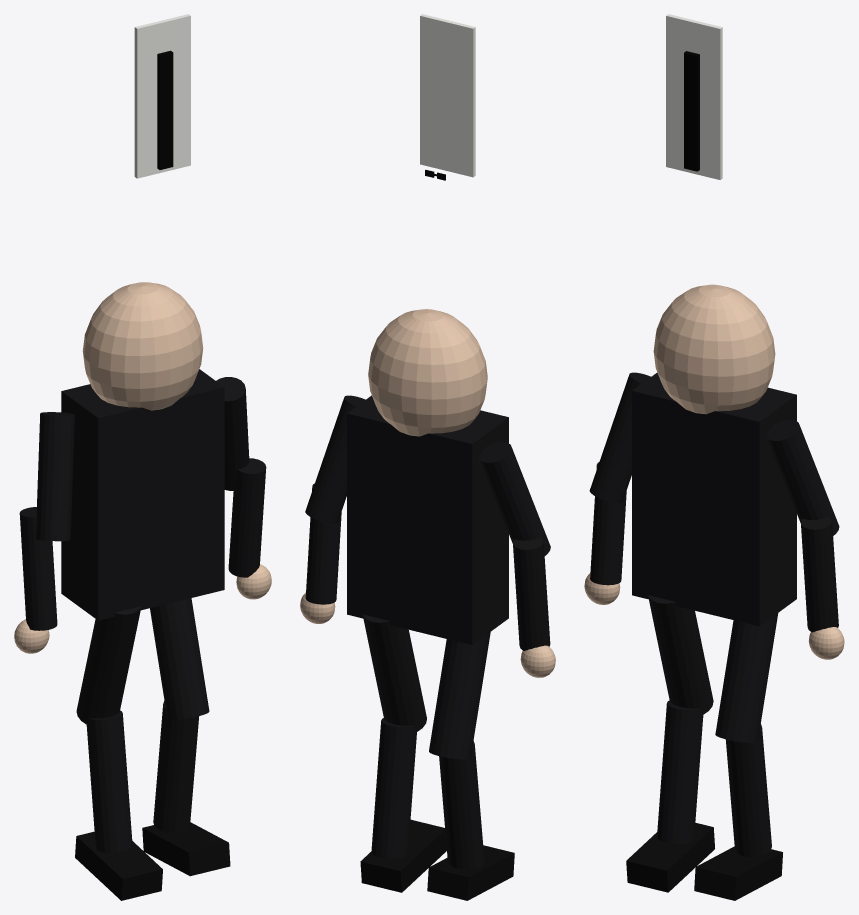
Rendered from 2fer-character.glb.
3 renders of one model, left to right at view 1: azimuth 30°, elevation 25°; view 2: azimuth 150°, elevation 25°; view 3: azimuth 330°, elevation 25°, orthographic.
Parts seen in each view (by area): view 1: torso_black_suit, plain_head, white_shirt_front, shin_L, thigh_R, thigh_L, upper_arm_L, shin_R, forearm_R, shoe_L, forearm_L, shoe_R (+4 smaller); view 2: torso_black_suit, plain_head, white_shirt_front, thigh_L, shin_R, thigh_R, shin_L, upper_arm_L, forearm_L, shoe_R, upper_arm_R, shoe_L (+3 smaller); view 3: torso_black_suit, plain_head, white_shirt_front, thigh_R, shin_L, thigh_L, shin_R, upper_arm_R, forearm_R, shoe_L, shoe_R, upper_arm_L (+4 smaller).
Boxes of the visible parts, left/top/right/bottom form: torso_black_suit: left=61, top=369, right=224, bottom=620; plain_head: left=82, top=282, right=203, bottom=410; white_shirt_front: left=134, top=14, right=190, bottom=178; shin_L: left=86, top=710, right=132, bottom=852; thigh_R: left=150, top=598, right=209, bottom=719; thigh_L: left=76, top=606, right=140, bottom=724; upper_arm_L: left=35, top=412, right=74, bottom=541; shin_R: left=153, top=701, right=199, bottom=833; forearm_R: left=228, top=458, right=266, bottom=577; shoe_L: left=75, top=831, right=162, bottom=900; forearm_L: left=19, top=507, right=57, bottom=630; shoe_R: left=142, top=822, right=230, bottom=876; torso_black_suit: left=347, top=395, right=508, bottom=644; plain_head: left=368, top=309, right=487, bottom=436; white_shirt_front: left=420, top=14, right=475, bottom=177; thigh_L: left=429, top=632, right=490, bottom=759; shin_R: left=371, top=718, right=416, bottom=859; thigh_R: left=363, top=614, right=426, bottom=732; shin_L: left=439, top=741, right=484, bottom=869; upper_arm_L: left=479, top=442, right=550, bottom=555; forearm_L: left=513, top=537, right=550, bottom=650; shoe_R: left=360, top=819, right=446, bottom=892; upper_arm_R: left=305, top=395, right=365, bottom=523; shoe_L: left=427, top=845, right=514, bottom=900; torso_black_suit: left=632, top=372, right=796, bottom=626; plain_head: left=653, top=284, right=775, bottom=414; white_shirt_front: left=666, top=14, right=722, bottom=179; thigh_R: left=715, top=613, right=778, bottom=742; shin_L: left=657, top=700, right=703, bottom=844; thigh_L: left=648, top=595, right=713, bottom=714; shin_R: left=725, top=724, right=771, bottom=857; upper_arm_R: left=766, top=419, right=839, bottom=535; forearm_R: left=800, top=516, right=838, bottom=632; shoe_L: left=626, top=822, right=714, bottom=892; shoe_R: left=694, top=846, right=782, bottom=900; upper_arm_L: left=589, top=372, right=650, bottom=503.
Size of the model in its own units: 1.51 by 4.87 by 0.6257.
